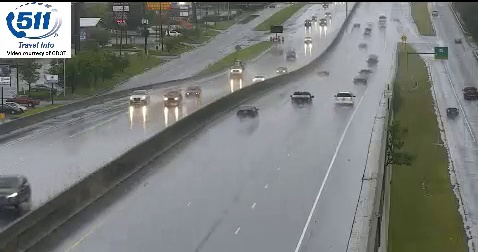car: (290, 91, 312, 107), (334, 92, 354, 106), (237, 105, 258, 118)
